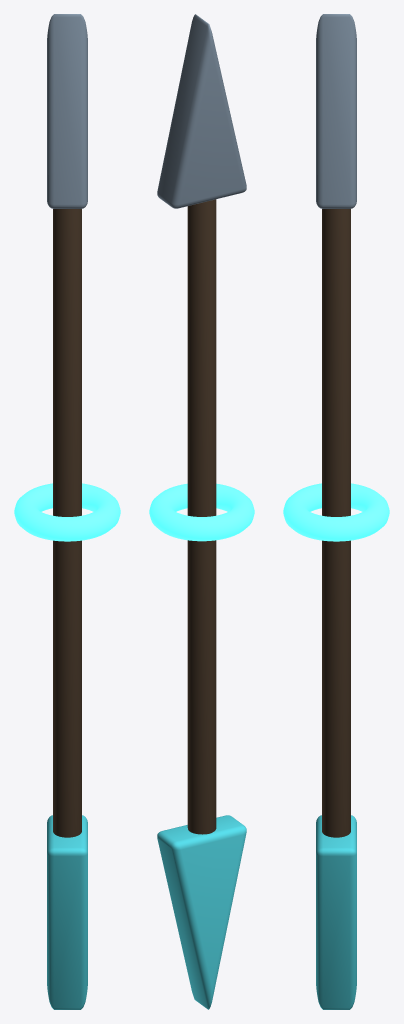
Rendered from spear_v8.glb.
3 views of the same model, side by side, from view 1: azimuth 90°, elevation 25°; view 2: azimuth 210°, elevation 25°; view 3: azimuth 270°, elevation 25° (orthographic).
Parts seen in each view (by area): view 1: DOUBLE_SPEAR_SHAFT_SECONDARY, DOUBLE_SPEAR_TOP_PRIMARY, DOUBLE_SPEAR_BOTTOM_ACCENT, DOUBLE_SPEAR_CORE_EMISSIVE; view 2: DOUBLE_SPEAR_SHAFT_SECONDARY, DOUBLE_SPEAR_TOP_PRIMARY, DOUBLE_SPEAR_BOTTOM_ACCENT, DOUBLE_SPEAR_CORE_EMISSIVE; view 3: DOUBLE_SPEAR_SHAFT_SECONDARY, DOUBLE_SPEAR_TOP_PRIMARY, DOUBLE_SPEAR_BOTTOM_ACCENT, DOUBLE_SPEAR_CORE_EMISSIVE.
Boxes of the visible parts, left/top/right/bottom form: DOUBLE_SPEAR_SHAFT_SECONDARY: left=53, top=209, right=81, bottom=837; DOUBLE_SPEAR_TOP_PRIMARY: left=47, top=14, right=87, bottom=208; DOUBLE_SPEAR_BOTTOM_ACCENT: left=47, top=815, right=87, bottom=1009; DOUBLE_SPEAR_CORE_EMISSIVE: left=14, top=483, right=120, bottom=541; DOUBLE_SPEAR_SHAFT_SECONDARY: left=187, top=199, right=216, bottom=834; DOUBLE_SPEAR_TOP_PRIMARY: left=157, top=14, right=246, bottom=208; DOUBLE_SPEAR_BOTTOM_ACCENT: left=157, top=815, right=246, bottom=1009; DOUBLE_SPEAR_CORE_EMISSIVE: left=149, top=483, right=254, bottom=541; DOUBLE_SPEAR_SHAFT_SECONDARY: left=322, top=209, right=350, bottom=837; DOUBLE_SPEAR_TOP_PRIMARY: left=316, top=14, right=356, bottom=208; DOUBLE_SPEAR_BOTTOM_ACCENT: left=316, top=815, right=356, bottom=1009; DOUBLE_SPEAR_CORE_EMISSIVE: left=283, top=483, right=389, bottom=541.
Bounding box in the file's own units: 0.52 × 5.36 × 0.52.
